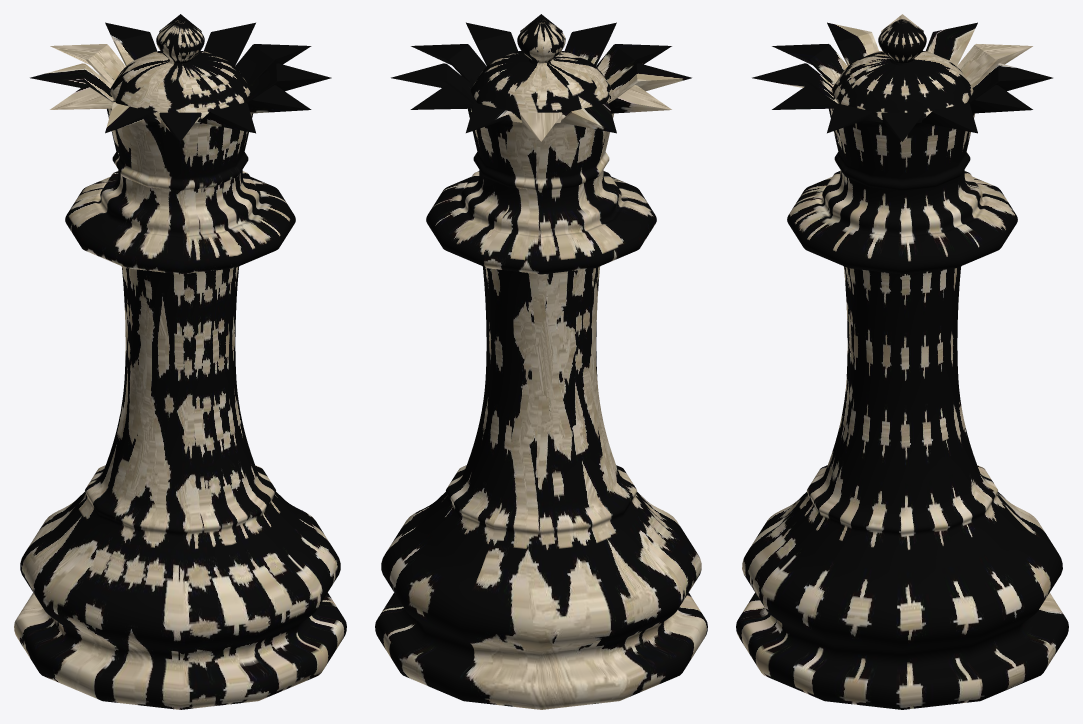
File: queen_light.obj
The picture shows the model from 3 angles, left to right: view 1: azimuth 30°, elevation 25°; view 2: azimuth 150°, elevation 25°; view 3: azimuth 270°, elevation 25°; orthographic projection.
Visible parts, largest first — view 1: mesh01; view 2: mesh01; view 3: mesh01.
Part boxes in pixels (x1,y1,x2,y2): mesh01: (14,14,346,709); mesh01: (375,14,707,709); mesh01: (736,14,1068,709).
Size of the model in its own units: 14.93 by 30.95 by 14.93.
Materials: 1 (1 with a texture image).
